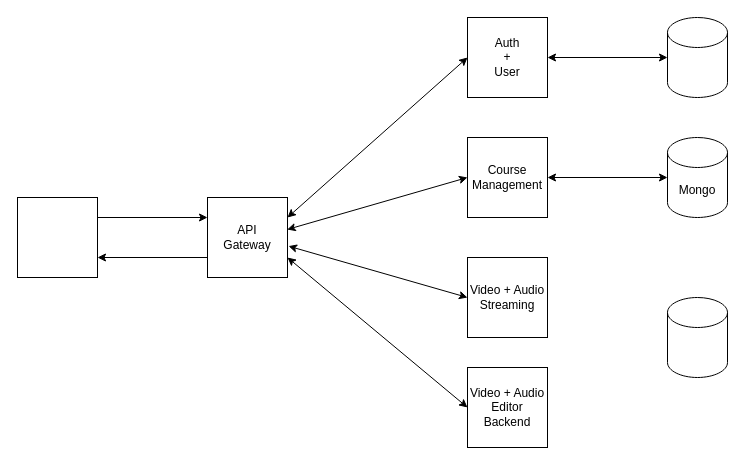
Image size: 745x465. Some labels were removed from this diagram. The shapes that lost their labels are listed below. From the top down, each one's box as (x1, y1, x2, y2) in pixels, then its label:
(666, 16, 728, 98): PG
(16, 196, 98, 278): UI
(666, 296, 728, 378): Redis Cache
